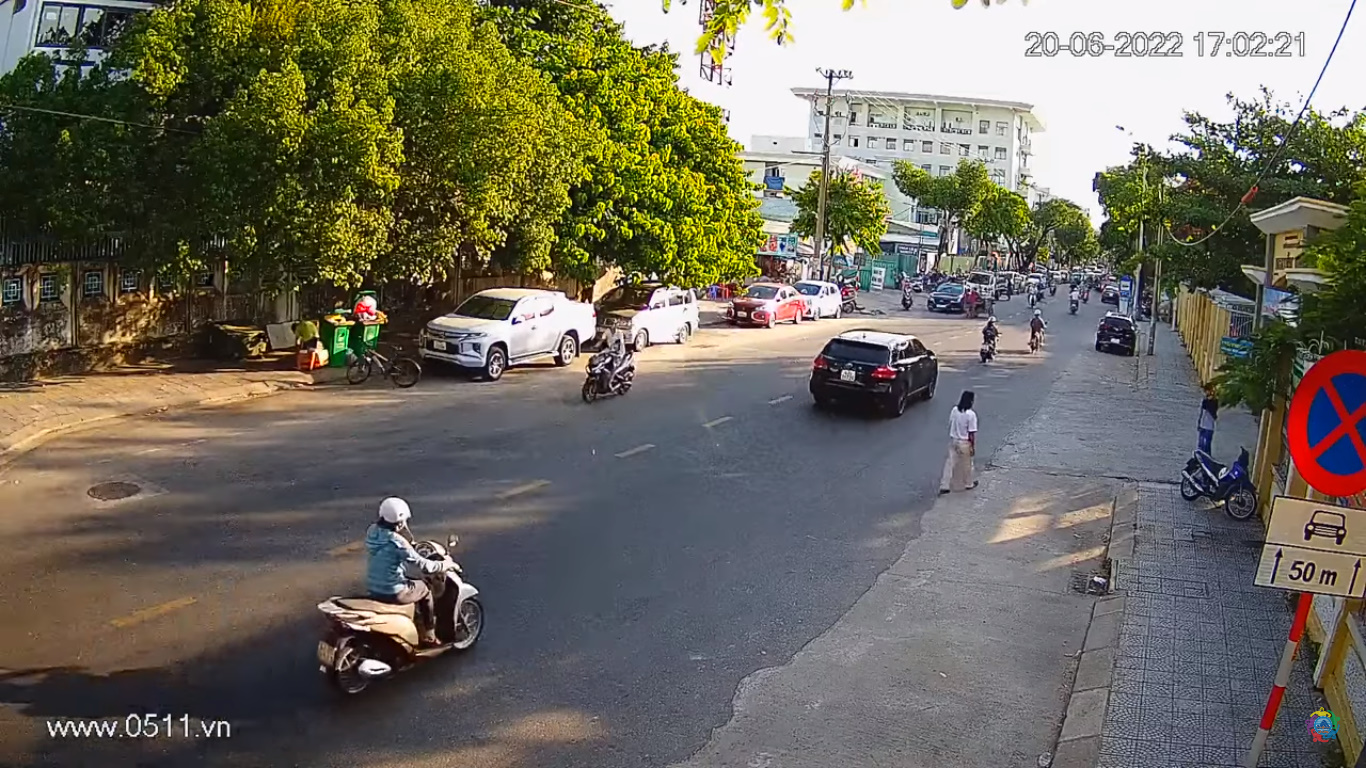car: (810, 327, 940, 419)
